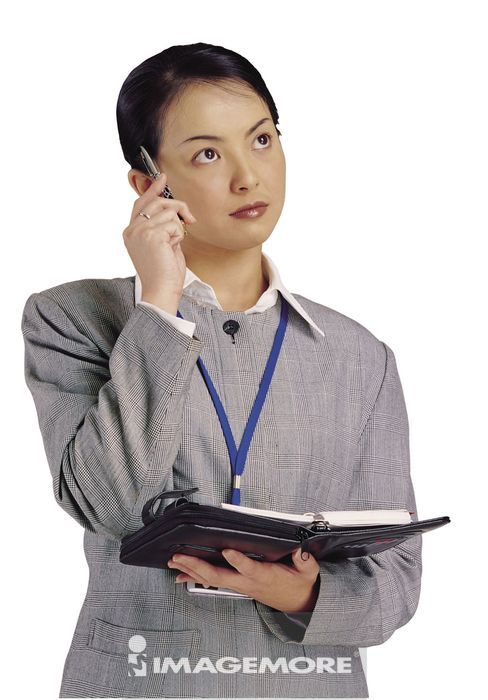talk: (125, 108, 286, 312)
